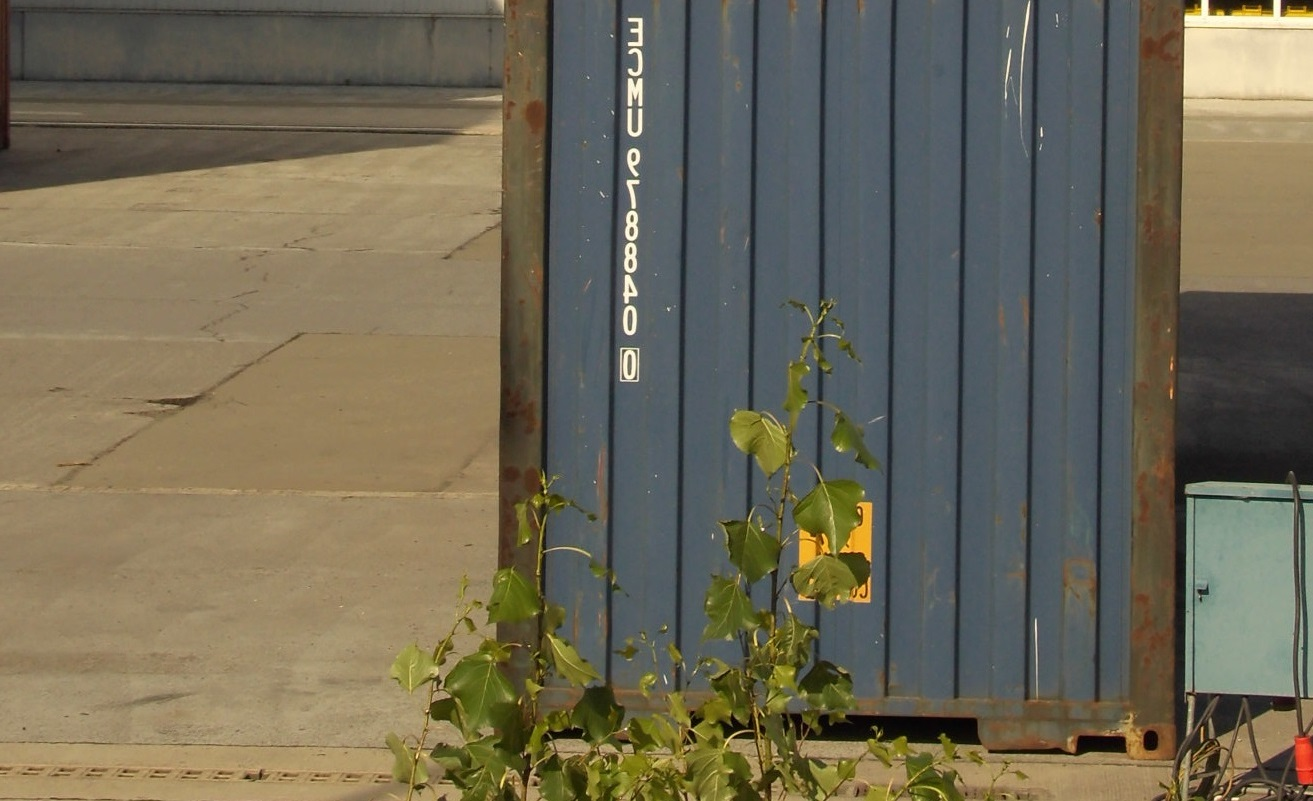container_no_door: (509, 7, 1187, 726)
